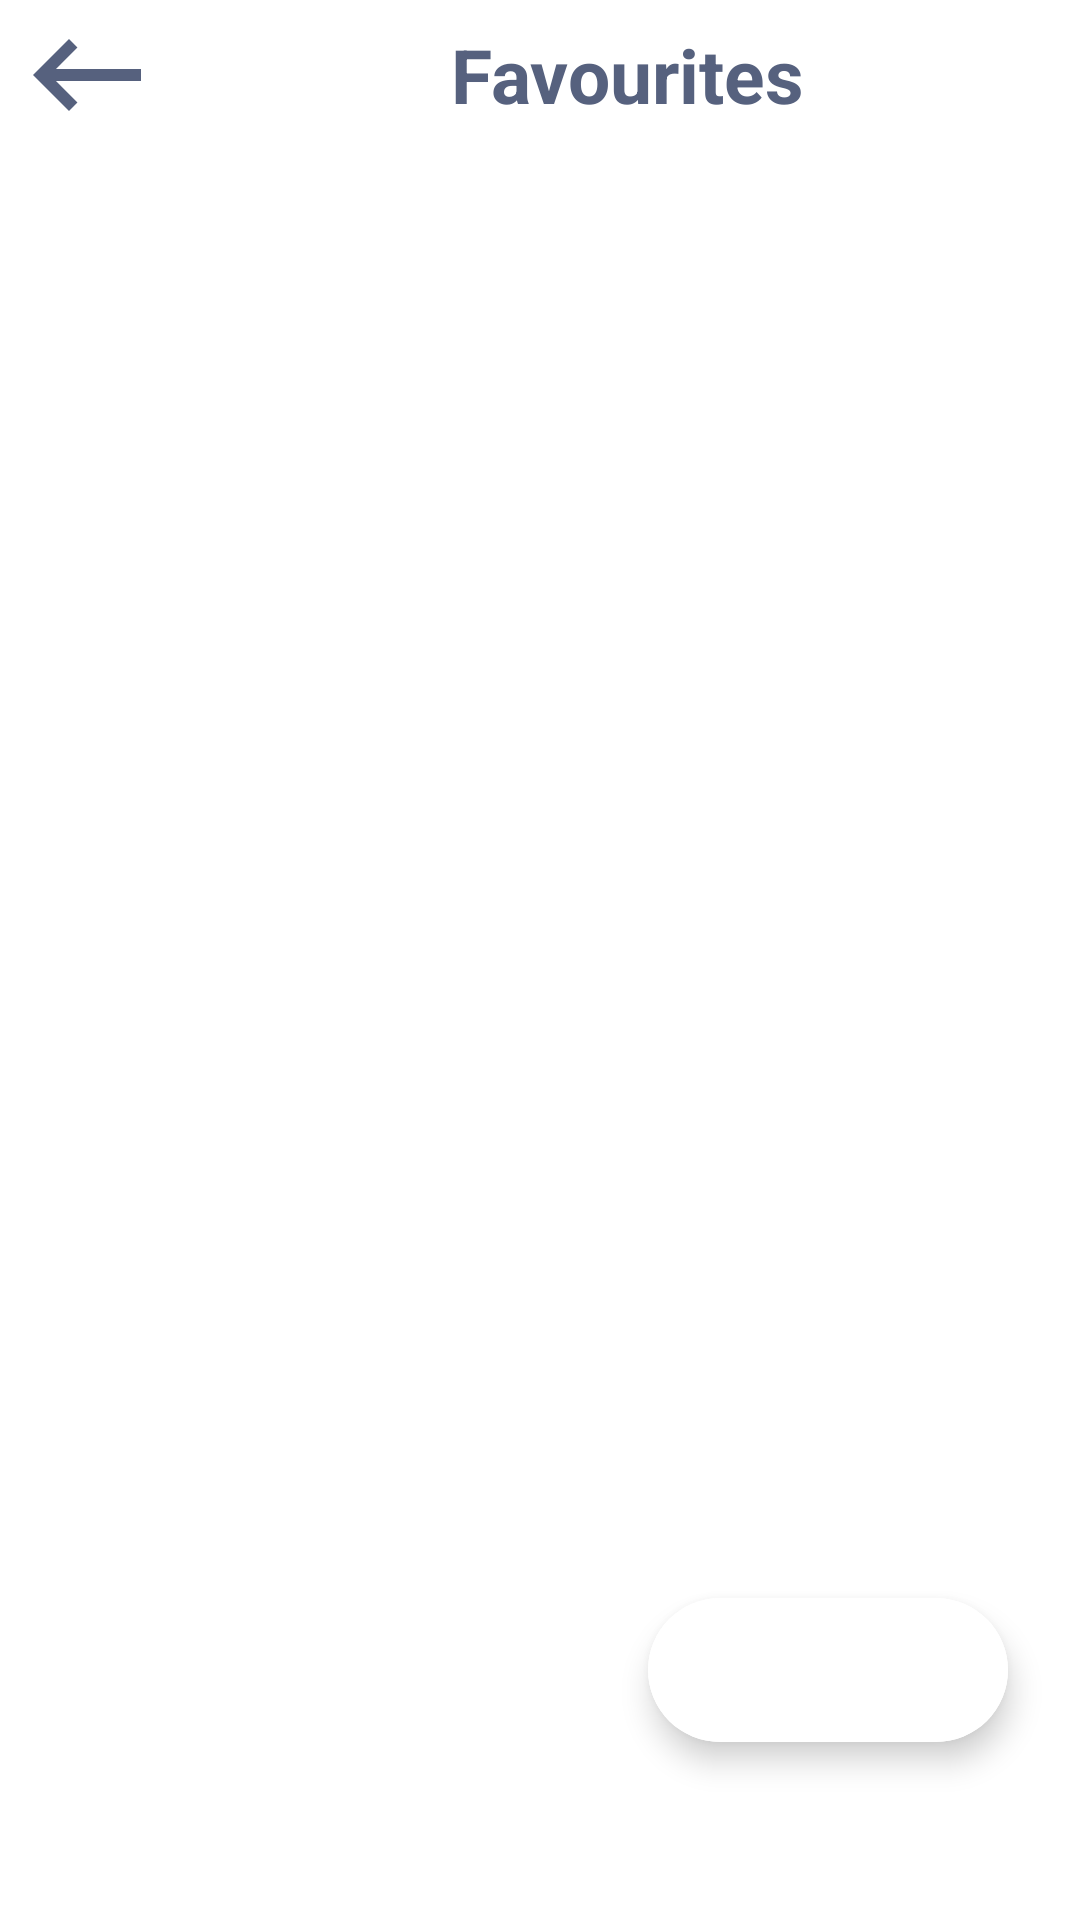

Named icons in this screenshot (1080x1920) and their centers, (x=x, y=y):
Back: (x=87, y=75)
